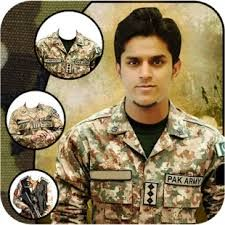uniform: (63, 96, 224, 221)
